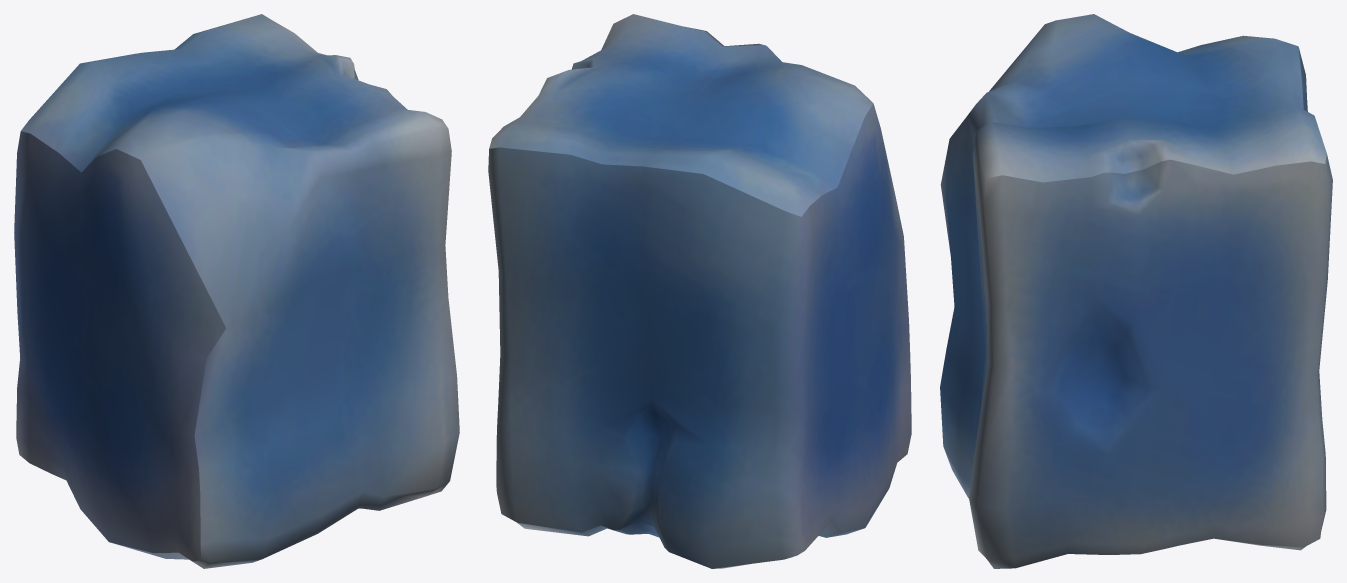
The model's file is p_dlc09_iceblock_02 (3).fbx.
3 views of the same model, side by side, from view 1: azimuth 30°, elevation 25°; view 2: azimuth 150°, elevation 25°; view 3: azimuth 270°, elevation 25° (orthographic). The views are drawn at different scales.
Visible parts, largest first — view 1: p_dlc09_iceblock_02 (3); view 2: p_dlc09_iceblock_02 (3); view 3: p_dlc09_iceblock_02 (3).
Part boxes in pixels (x1,y1,x2,y2): p_dlc09_iceblock_02 (3): (14,14,459,568); p_dlc09_iceblock_02 (3): (488,14,911,568); p_dlc09_iceblock_02 (3): (940,14,1332,568).
Bounding box in the file's own units: 1.18 × 1.18 × 1.49.
1 material, 1 textured.
